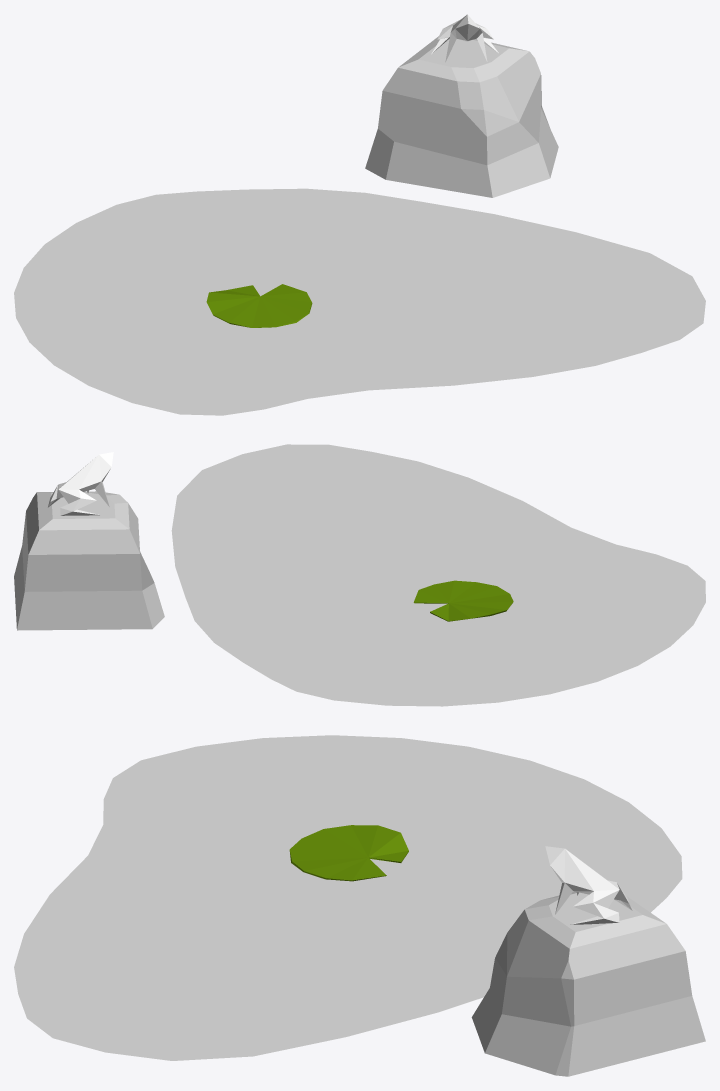
Rendered from pond.fbx.
3 renders of one model, top to bottom at view 1: azimuth 30°, elevation 25°; view 2: azimuth 150°, elevation 25°; view 3: azimuth 270°, elevation 25°, orthographic. The views are drawn at different scales.
Visible parts, largest first — view 1: Circle, Cube, nenufar, rana60.001; view 2: Circle, Cube, nenufar, rana60.001; view 3: Circle, Cube, nenufar, rana60.001.
Part boxes in pixels (left/top/right/bottom): Circle: left=14, top=188, right=705, bottom=415; Cube: left=365, top=36, right=558, bottom=197; nenufar: left=206, top=284, right=312, bottom=327; rana60.001: left=431, top=14, right=498, bottom=62; Circle: left=171, top=444, right=705, bottom=706; Cube: left=14, top=491, right=164, bottom=630; nenufar: left=413, top=580, right=513, bottom=621; rana60.001: left=48, top=452, right=113, bottom=515; Circle: left=14, top=735, right=682, bottom=1060; Cube: left=471, top=891, right=705, bottom=1076; nenufar: left=289, top=825, right=408, bottom=881; rana60.001: left=545, top=846, right=632, bottom=924.
Bounding box in the file's own units: 229 × 55.65 × 194.
